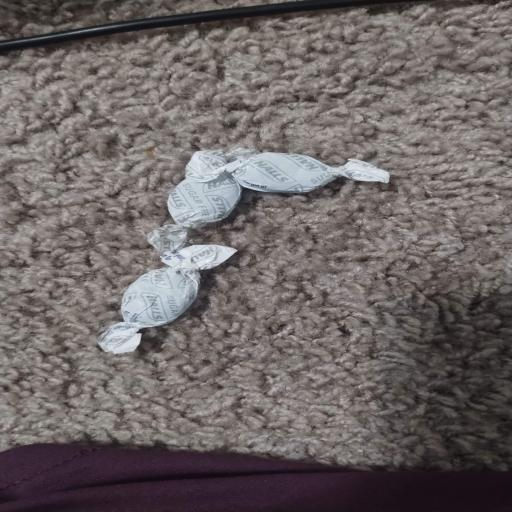chocolate: (99, 149, 388, 353), (99, 225, 235, 353), (186, 149, 389, 193)
